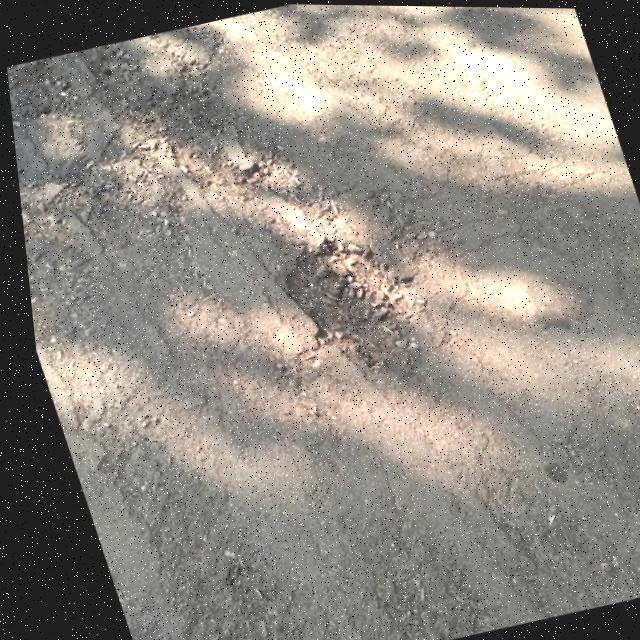pothole: (1, 17, 268, 237), (236, 185, 441, 366)
